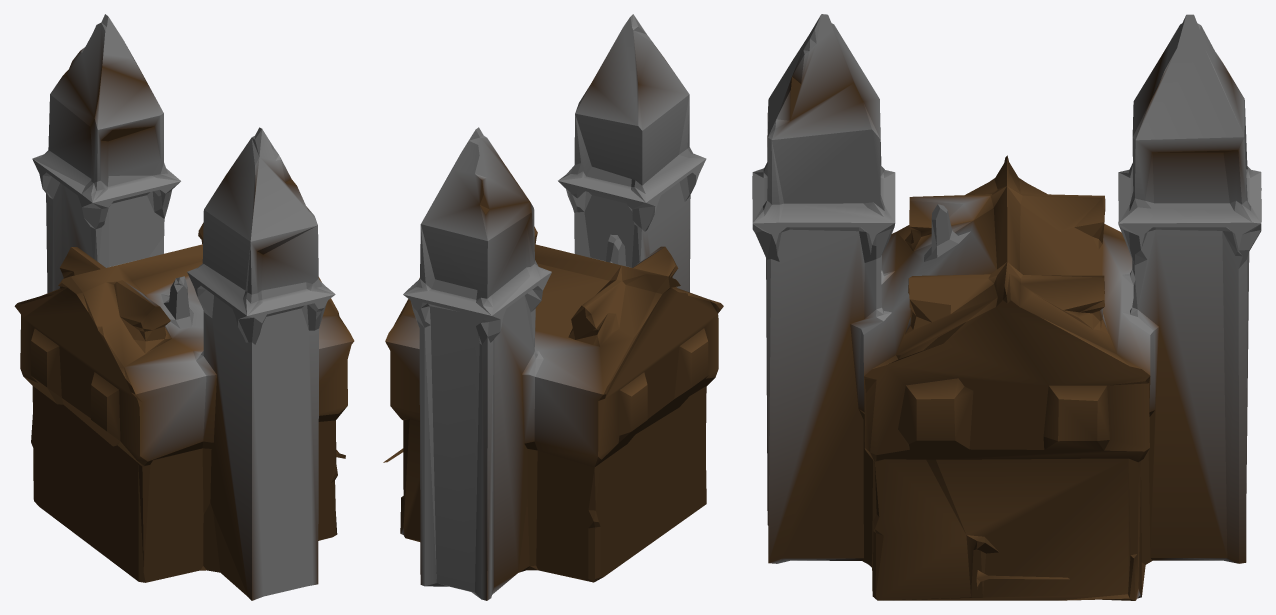
File: Medieval Houses.glb
3 renders of one model, left to right at view 1: azimuth 30°, elevation 25°; view 2: azimuth 150°, elevation 25°; view 3: azimuth 270°, elevation 25°, orthographic. The views are drawn at different scales.
Visible parts, largest first — view 1: Root; view 2: Root; view 3: Root.
Part boxes in pixels (x1,y1,x2,y2): Root: [14, 14, 354, 600]; Root: [383, 14, 723, 600]; Root: [752, 14, 1261, 600].
Size of the model in its own units: 11.32 by 17.63 by 15.31.
